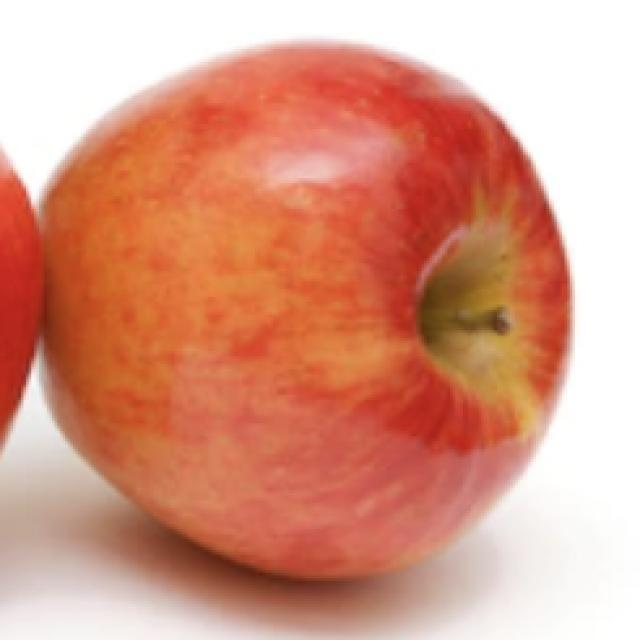Fresh Apple: (61, 50, 566, 555)
